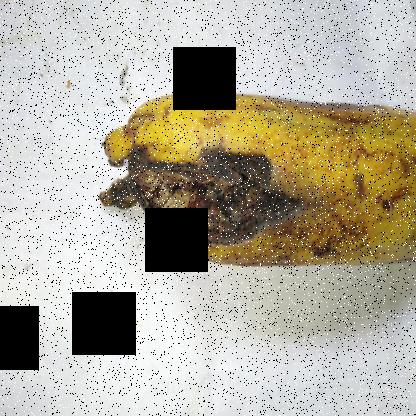ripe: (110, 68, 416, 293)
rotten: (81, 116, 301, 263)
